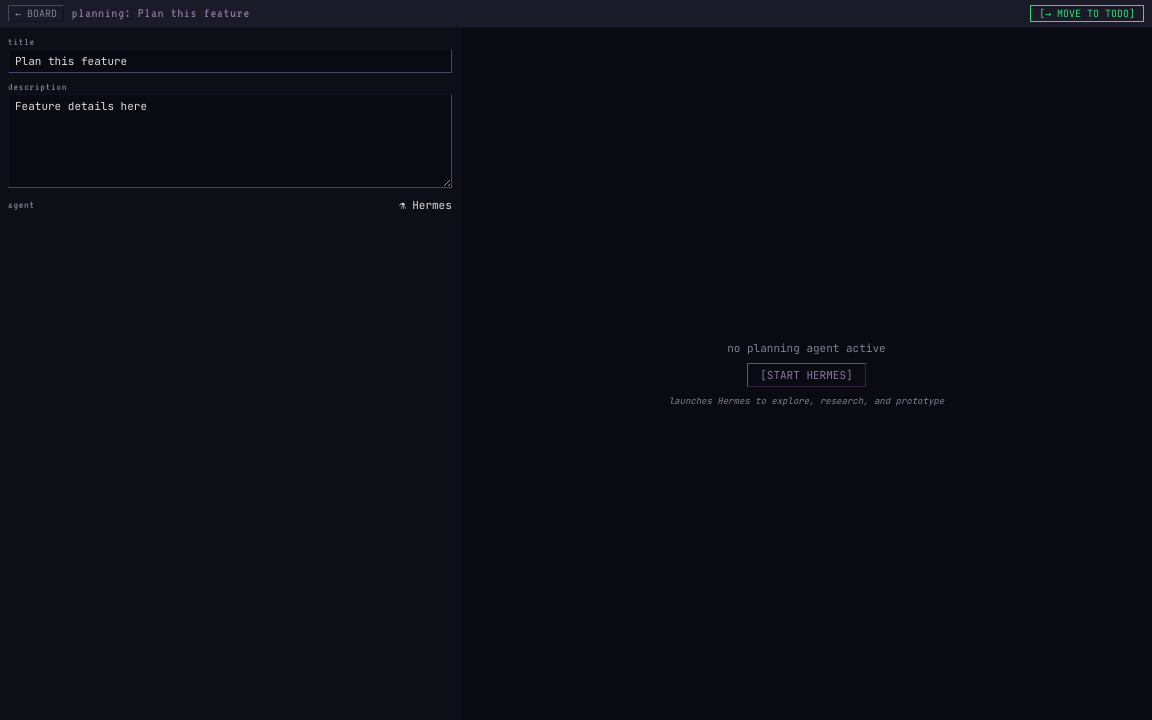
Test: PlanningPane › editing title marks form as dirty and shows save button
Check: the text "[SAVE CHANGES]" is not shown
Replace the text in the field showing "Plan this feature" with "Updated title" at (230, 61), box top-left (8, 49), bottom-right (452, 73)
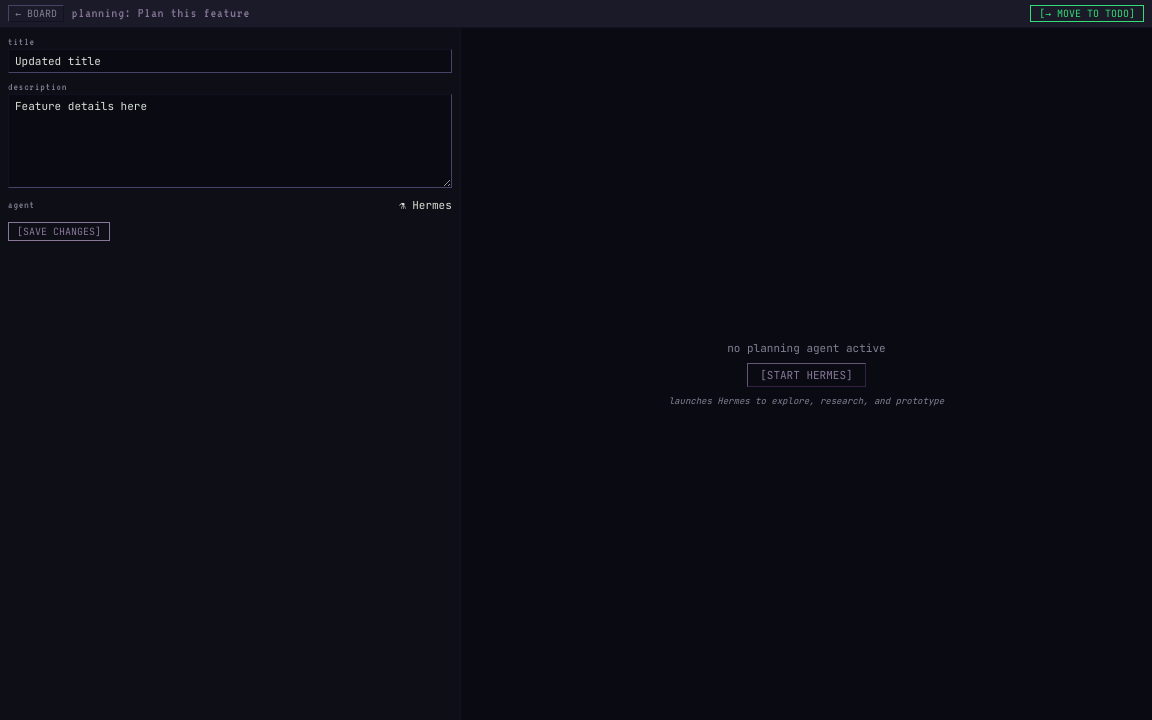
Check: the button "[SAVE CHANGES]" is shown, box top-left (8, 222), bottom-right (110, 241)
